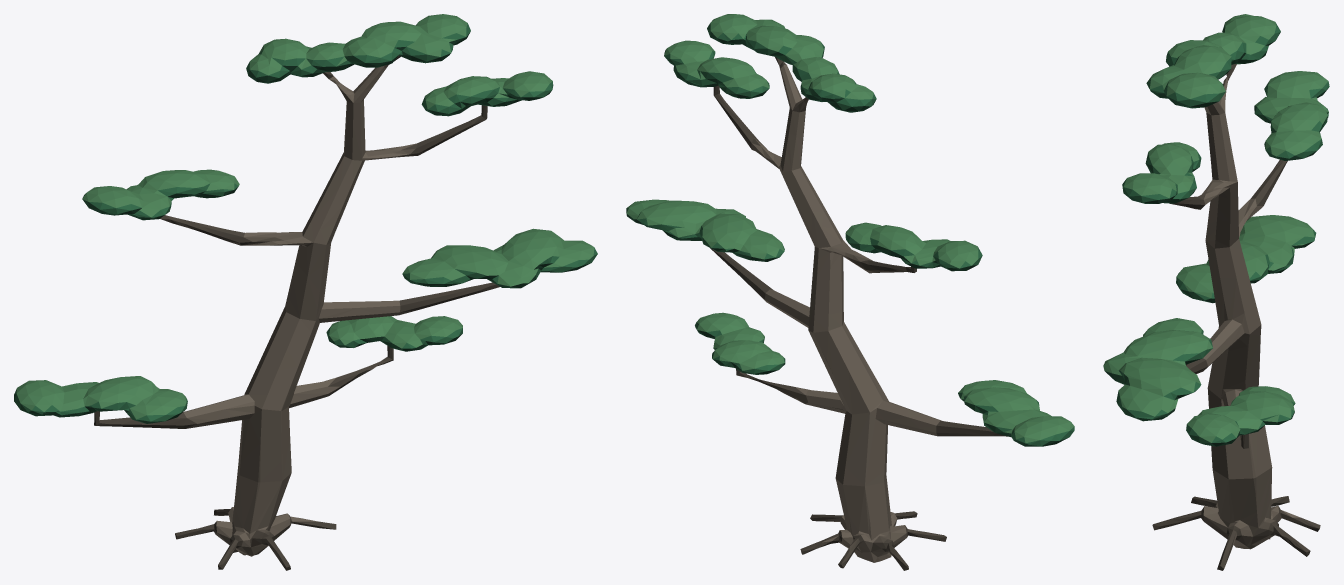
Rendered from ancient-pine-820-lod0.glb.
The picture shows the model from 3 angles, left to right: view 1: azimuth 30°, elevation 25°; view 2: azimuth 150°, elevation 25°; view 3: azimuth 270°, elevation 25°; orthographic projection. The views are drawn at different scales.
Visible parts, largest first — view 1: n12.004, n8.004, n11.004, n9.004, n10.004; view 2: n8.004, n12.004, n11.004, n9.004, n10.004; view 3: n12.004, n8.004, n11.004, n9.004, n10.004.
Boxes of the visible parts, left/top/right/bottom form: n12.004: left=16, top=14, right=594, bottom=419; n8.004: left=183, top=64, right=429, bottom=556; n11.004: left=14, top=23, right=597, bottom=421; n9.004: left=94, top=55, right=499, bottom=570; n10.004: left=22, top=32, right=590, bottom=423; n8.004: left=751, top=58, right=941, bottom=562; n12.004: left=626, top=14, right=1074, bottom=443; n11.004: left=626, top=23, right=1074, bottom=446; n9.004: left=710, top=57, right=1007, bottom=570; n10.004: left=626, top=37, right=1067, bottom=446; n12.004: left=1103, top=14, right=1328, bottom=442; n8.004: left=1195, top=77, right=1300, bottom=552; n11.004: left=1112, top=22, right=1329, bottom=442; n9.004: left=1152, top=64, right=1320, bottom=570; n10.004: left=1105, top=32, right=1328, bottom=446.
Bounding box in the file's own units: 5.77 × 5.42 × 1.98.
